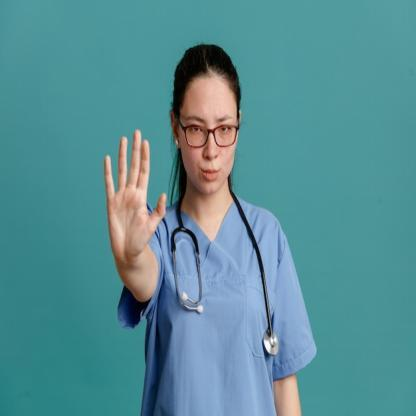stop: (104, 127, 170, 260)
